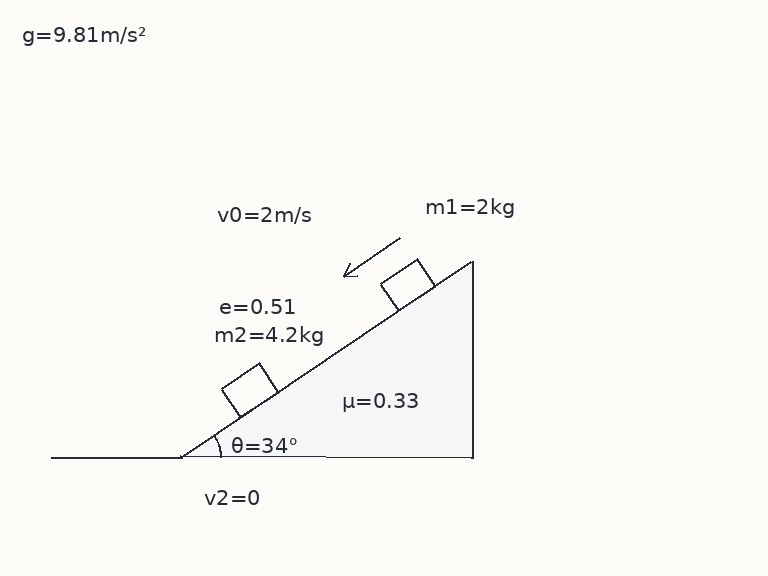block: (218, 361, 280, 420), (378, 257, 437, 312)
ramp: (179, 259, 473, 459)
